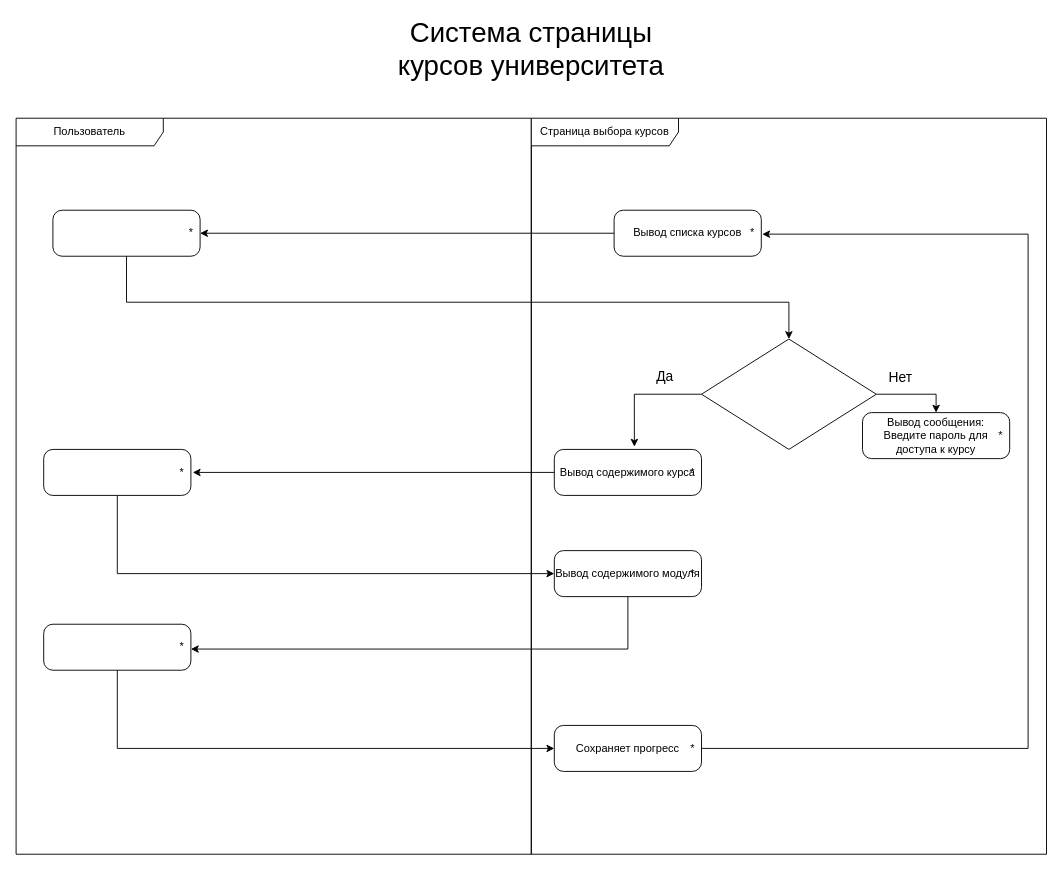
This 1063x870 diagram has some shape labels left out. Here are the shapes that lost their labels. From the top down, the centre of each, then its label:
pixel 126 232: Выбирает курс
pixel 788 393: У пользователя есть доступ к курсу?
pixel 117 471: Выбирает модуль
pixel 117 646: Проходит часть модуля
